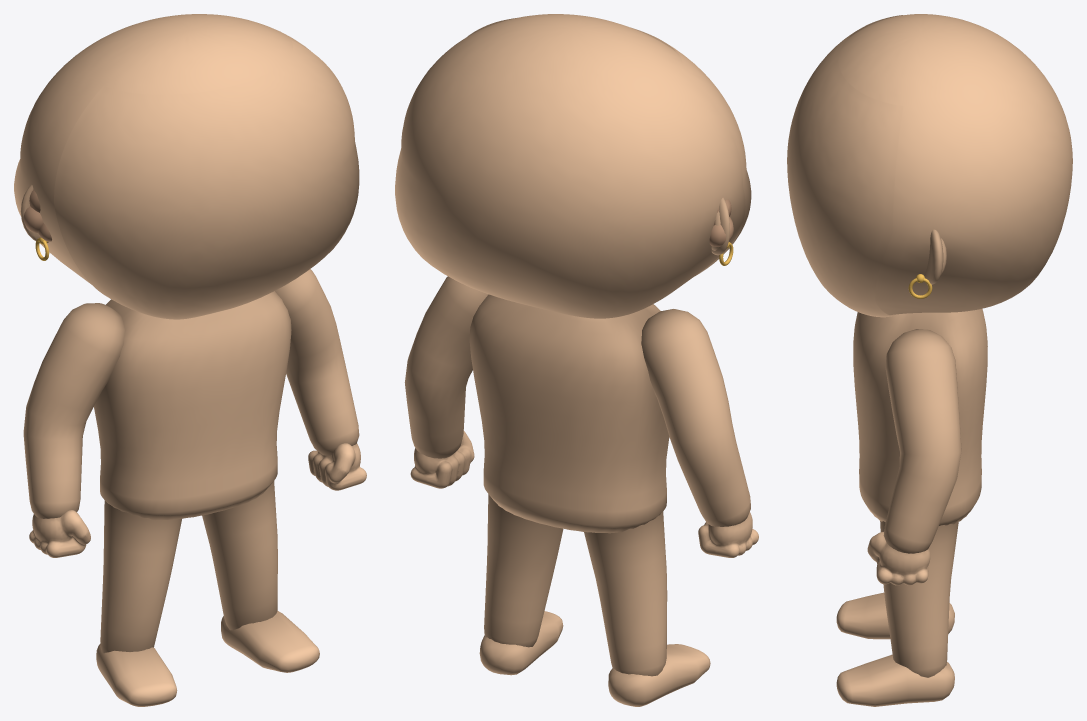
The picture shows the model from 3 angles, left to right: view 1: azimuth 30°, elevation 25°; view 2: azimuth 150°, elevation 25°; view 3: azimuth 270°, elevation 25°; orthographic projection. The views are drawn at different scales.
Visible parts, largest first — view 1: face, torso, head, armR, legR, armL, legL, footL, footR, fistR, fistL, ear_cauli; view 2: head, torso, armR, legR, armL, legL, footR, footL, face, fistL, fistR; view 3: head, face, torso, armL, legL, footL, footR, fistL, ear2L.
Part boxes in pixels (left/top/right/bottom): face: left=54, top=40, right=359, bottom=319; torso: left=94, top=291, right=291, bottom=520; head: left=14, top=14, right=310, bottom=284; armR: left=23, top=303, right=124, bottom=518; legR: left=100, top=500, right=181, bottom=653; armL: left=275, top=269, right=359, bottom=455; legL: left=202, top=481, right=277, bottom=630; footL: left=221, top=611, right=319, bottom=672; footR: left=96, top=643, right=177, bottom=706; fistR: left=29, top=510, right=90, bottom=557; fistL: left=308, top=443, right=366, bottom=490; ear_cauli: left=23, top=190, right=51, bottom=241; head: left=395, top=14, right=745, bottom=318; torso: left=469, top=294, right=669, bottom=533; armR: left=641, top=309, right=750, bottom=526; legR: left=584, top=511, right=667, bottom=676; armL: left=404, top=276, right=488, bottom=458; legL: left=484, top=494, right=563, bottom=647; footR: left=608, top=644, right=710, bottom=706; footL: left=479, top=611, right=563, bottom=675; face: left=468, top=18, right=751, bottom=275; fistL: left=410, top=430, right=474, bottom=488; fistR: left=698, top=512, right=758, bottom=557; head: left=838, top=14, right=1072, bottom=314; face: left=787, top=15, right=903, bottom=317; torso: left=853, top=309, right=987, bottom=525; armL: left=883, top=329, right=961, bottom=553; legL: left=880, top=521, right=958, bottom=677; footL: left=836, top=654, right=954, bottom=706; footR: left=836, top=592, right=954, bottom=639; fistL: left=867, top=532, right=930, bottom=585; ear2L: left=925, top=229, right=943, bottom=284.
Size of the model in its own units: 0.966 by 1.81 by 0.7438.
